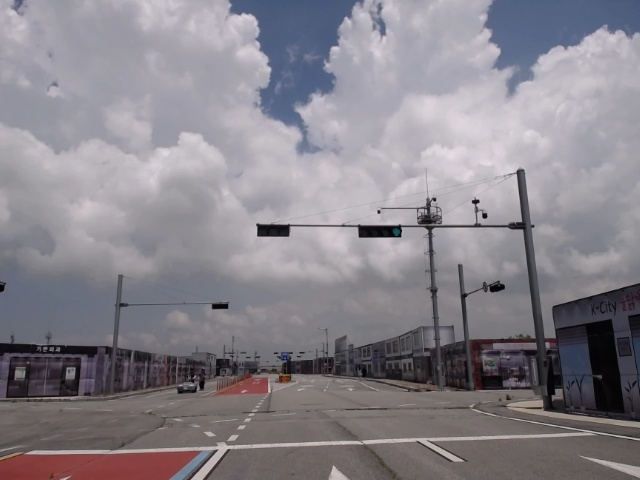straight_green_4: (357, 224, 400, 237)
